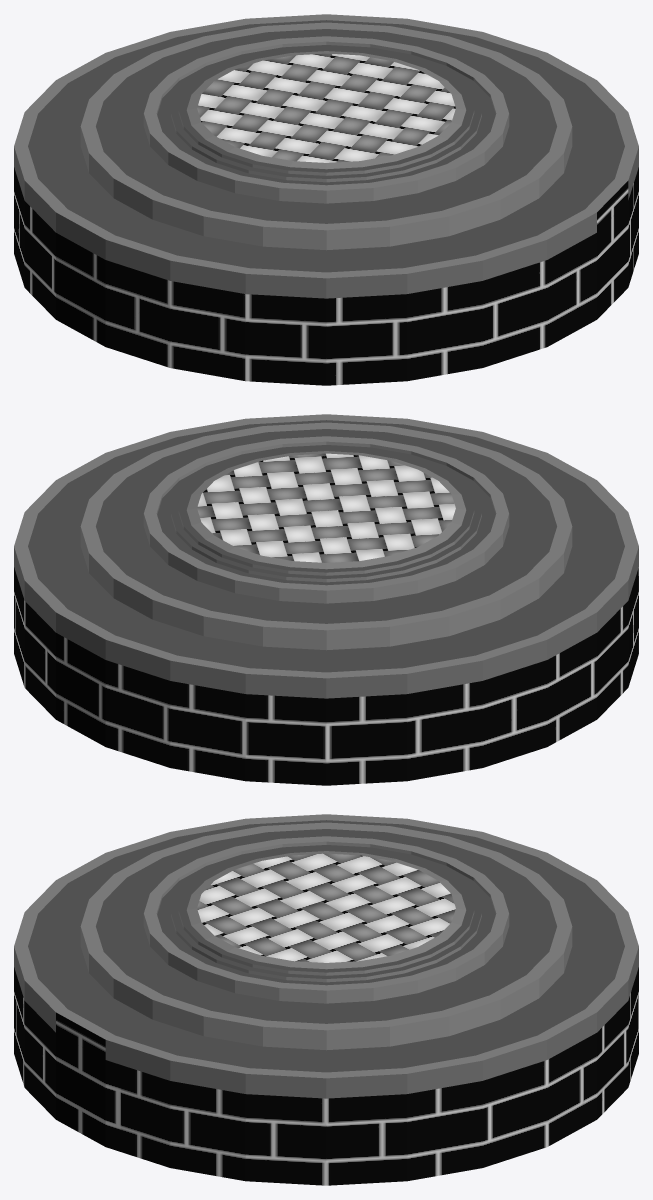
The model's file is VRShoot_MainStage.fbx.
3 renders of one model, top to bottom at view 1: azimuth 30°, elevation 25°; view 2: azimuth 150°, elevation 25°; view 3: azimuth 270°, elevation 25°, orthographic.
Visible parts, largest first — view 1: MainStage; view 2: MainStage; view 3: MainStage.
Part boxes in pixels (x1,y1,x2,y2): MainStage: [14, 14, 638, 385]; MainStage: [14, 414, 638, 785]; MainStage: [14, 814, 638, 1185].
Size of the model in its own units: 46.46 by 11.93 by 46.46.
